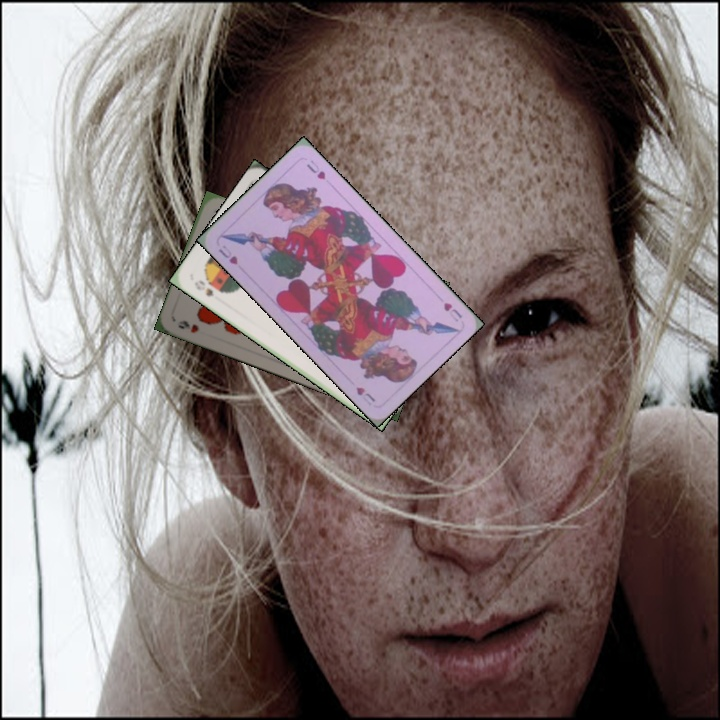H9: (174, 316, 201, 336)
HU: (214, 241, 240, 267), (440, 298, 465, 324)
SO: (190, 276, 216, 299)
